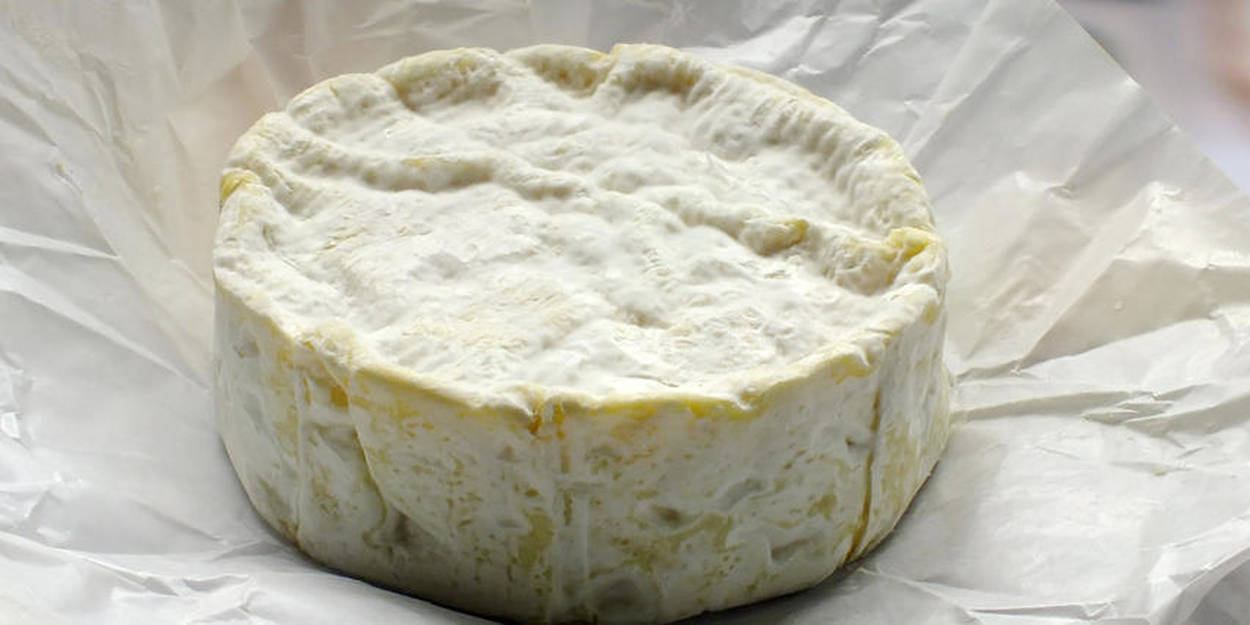camembert: (209, 42, 959, 625)
